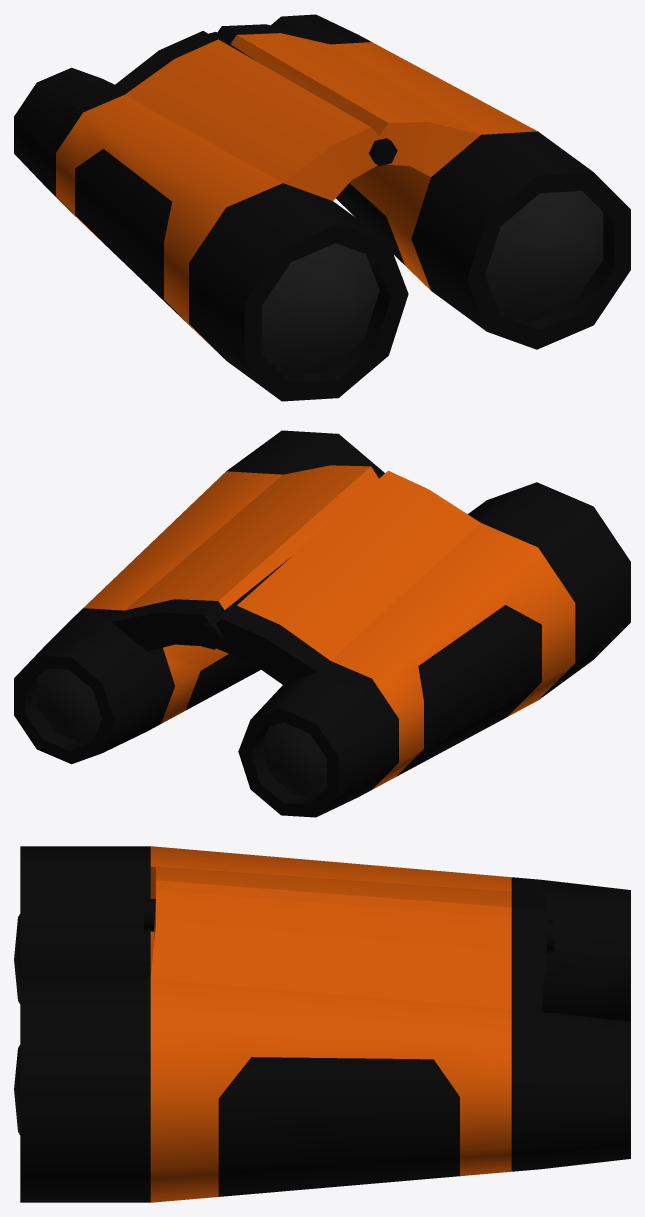
The model's file is Binoculars.FBX.
3 renders of one model, top to bottom at view 1: azimuth 30°, elevation 25°; view 2: azimuth 150°, elevation 25°; view 3: azimuth 270°, elevation 25°, orthographic. The views are drawn at different scales.
Parts seen in each view (by area): view 1: Cylinder001; view 2: Cylinder001; view 3: Cylinder001.
Part boxes in pixels (<box>): Cylinder001: <box>14,14,630,401</box>; Cylinder001: <box>14,430,630,817</box>; Cylinder001: <box>14,846,630,1202</box>.
Bounding box in the file's own units: 16 × 8.17 × 18.95.
